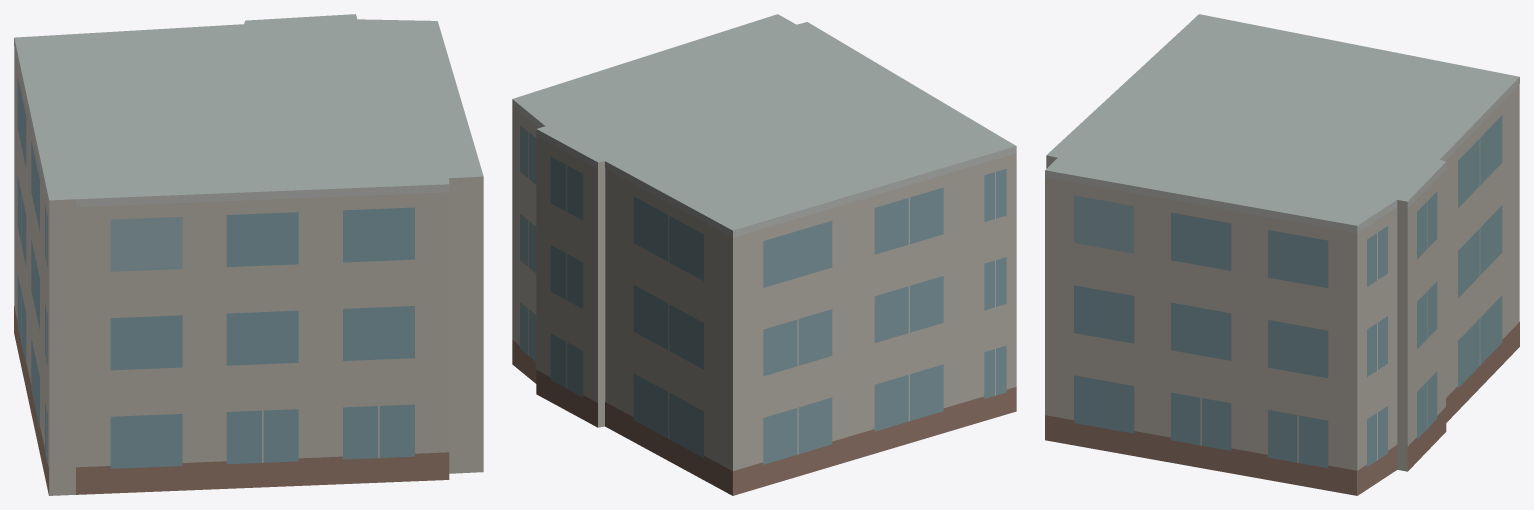
Rendered from survey-upis-32803054.glb.
3 renders of one model, left to right at view 1: azimuth 30°, elevation 25°; view 2: azimuth 150°, elevation 25°; view 3: azimuth 270°, elevation 25°, orthographic. The views are drawn at different scales.
Parts seen in each view (by area): view 1: survey-upis-32803054.tmp; view 2: survey-upis-32803054.tmp; view 3: survey-upis-32803054.tmp.
Part boxes in pixels (x1,y1,x2,y2): survey-upis-32803054.tmp: [14, 14, 483, 495]; survey-upis-32803054.tmp: [512, 14, 1016, 495]; survey-upis-32803054.tmp: [1045, 14, 1519, 495].
Size of the model in its own units: 15.41 by 9.15 by 14.59.
